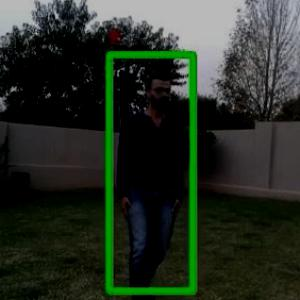follow: (109, 47, 194, 299)
